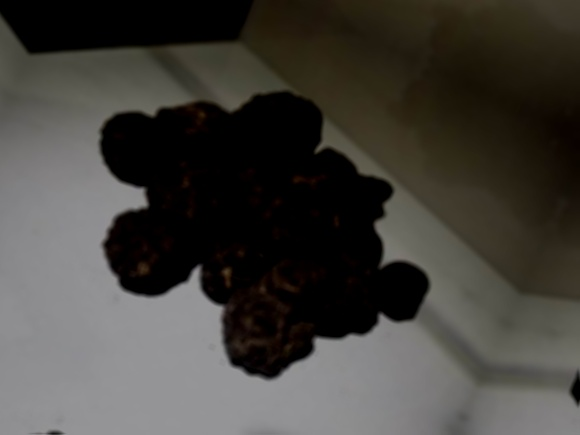halobolite: (305, 232, 409, 368), (228, 92, 357, 189), (272, 149, 378, 263), (204, 288, 314, 375), (154, 107, 255, 195), (106, 209, 206, 282), (97, 104, 178, 186), (214, 198, 280, 287)
